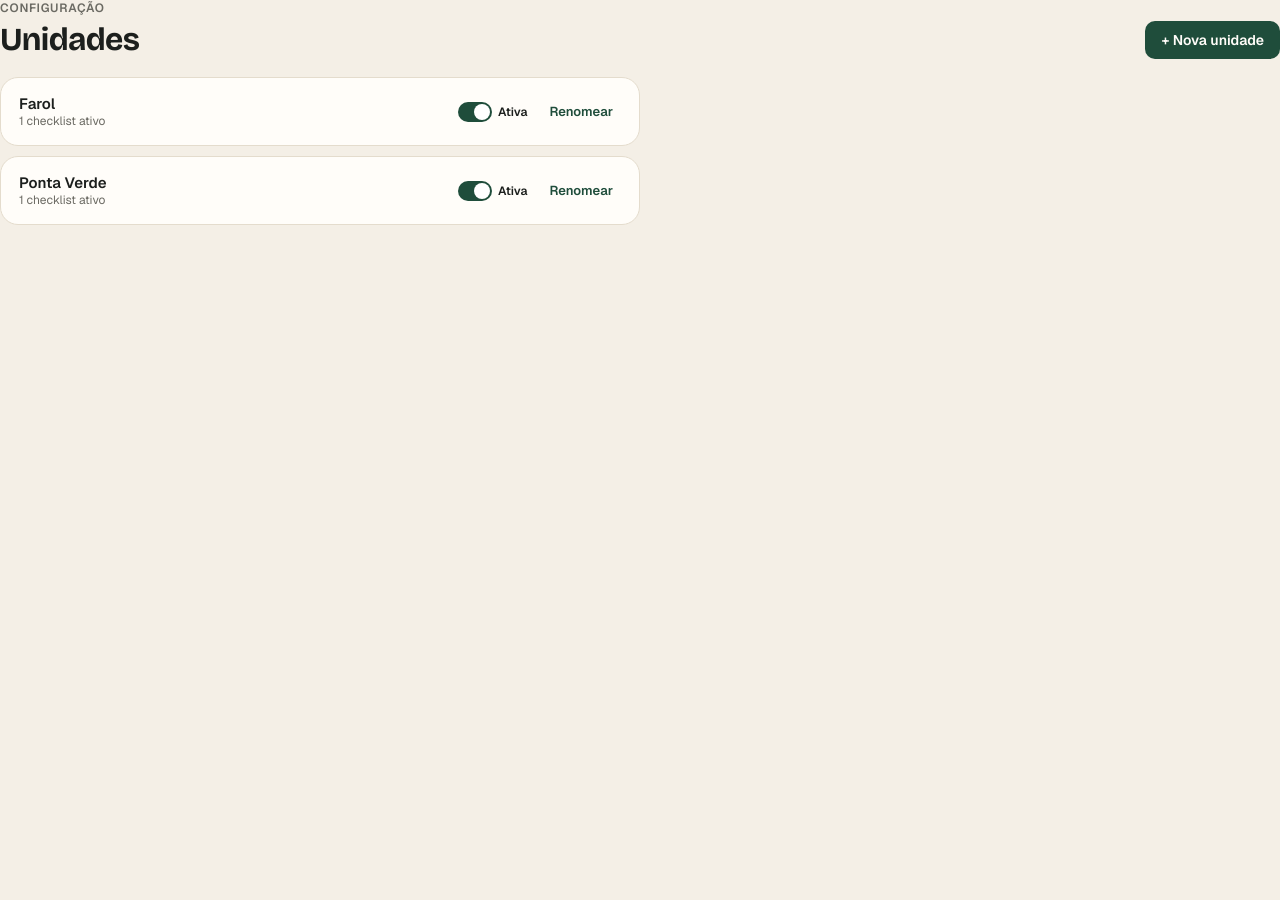
Test case: US20 — equipe, unidades e passo a passo › página Unidades: cria, recusa nome vazio e mostra o motivo de não desativar (sucesso e erro)
The image size is (1280, 900).
Click the button "+ Nova unidade": (1213, 40) [1146, 21, 1279, 59]
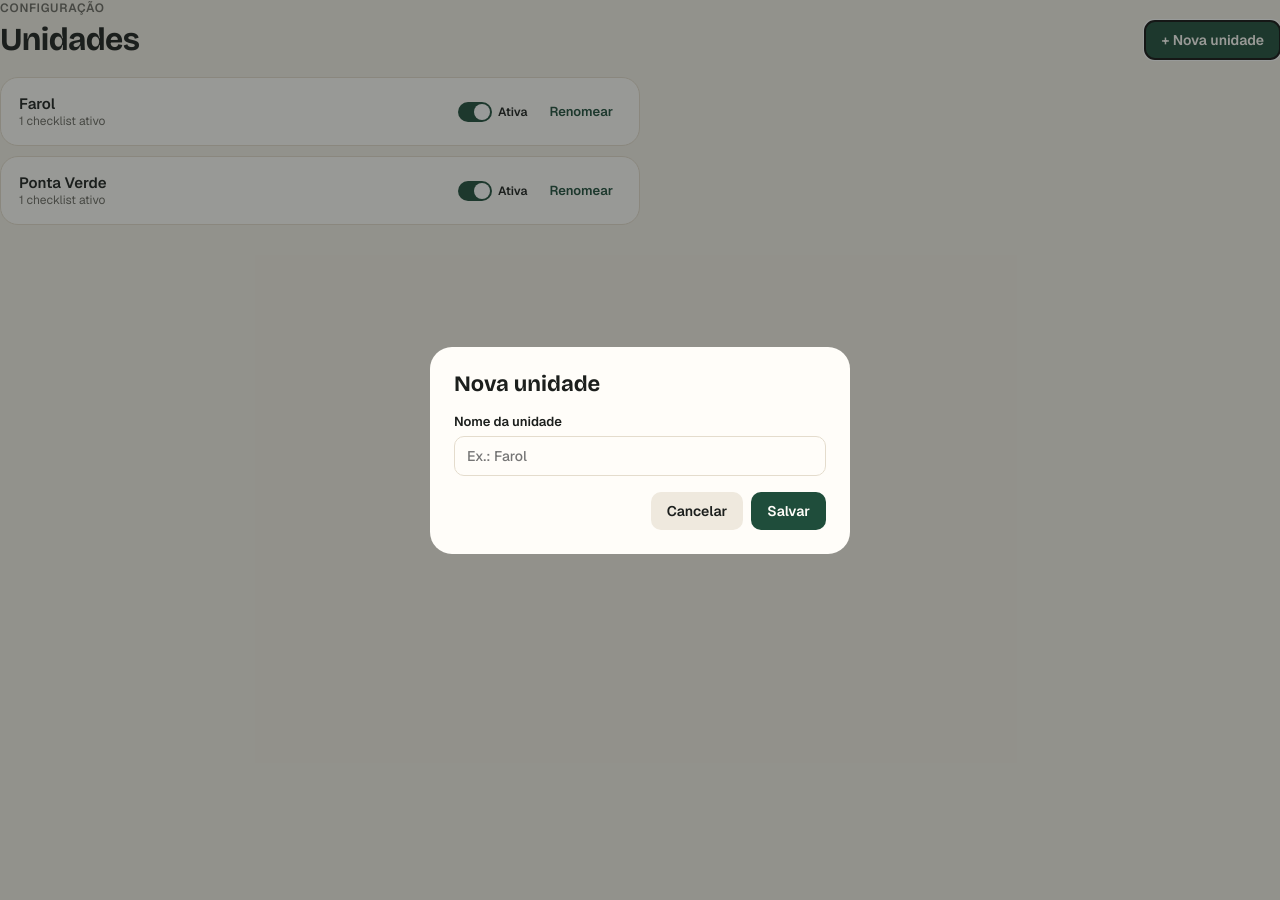
Click the button "Salvar": (789, 510) [751, 492, 826, 530]
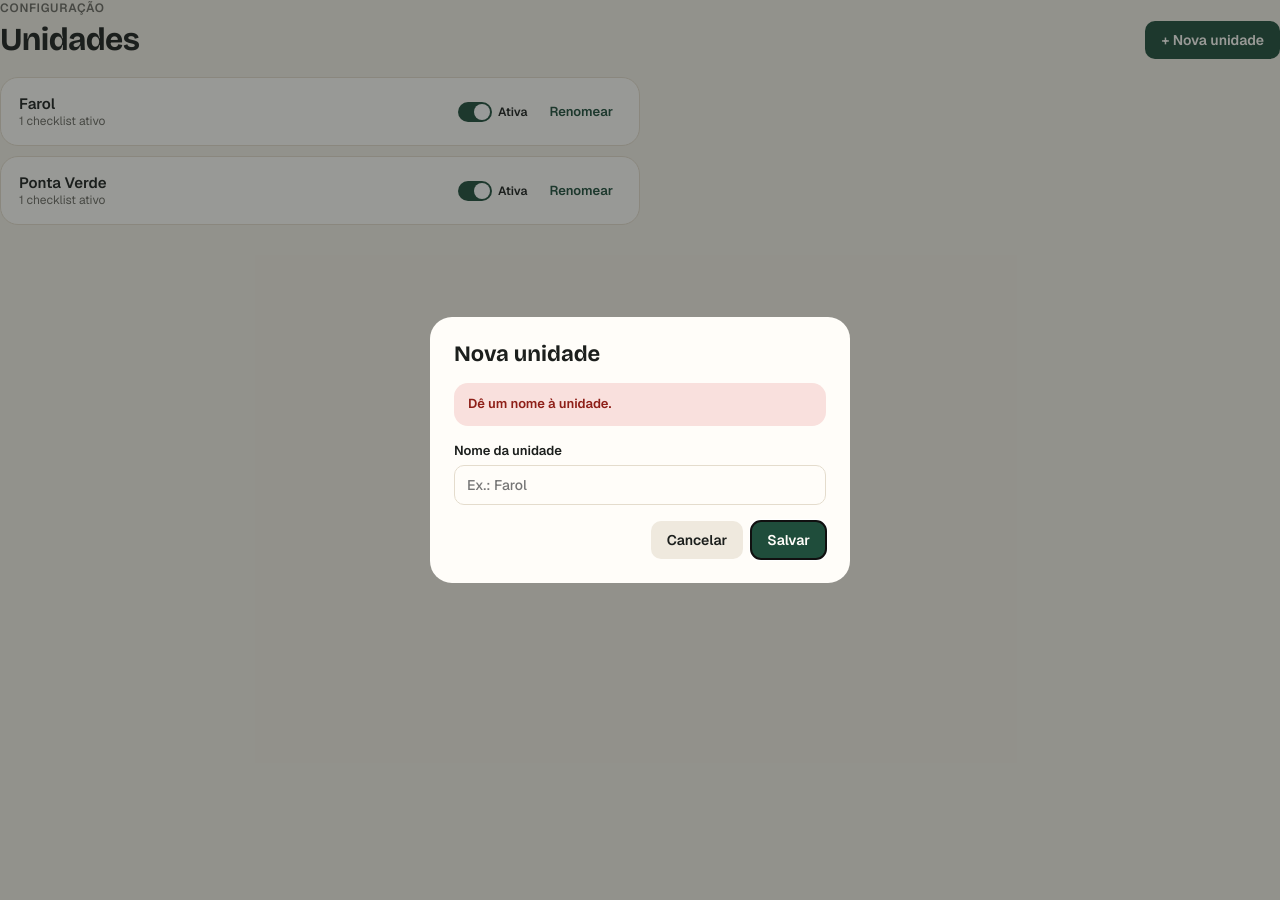
Check: the message reads "Dê um nome à unidade.", box [468, 395, 611, 412]
In the field labelled "Nome da unidade": (640, 485) [454, 465, 826, 505], type "Jatiúca"
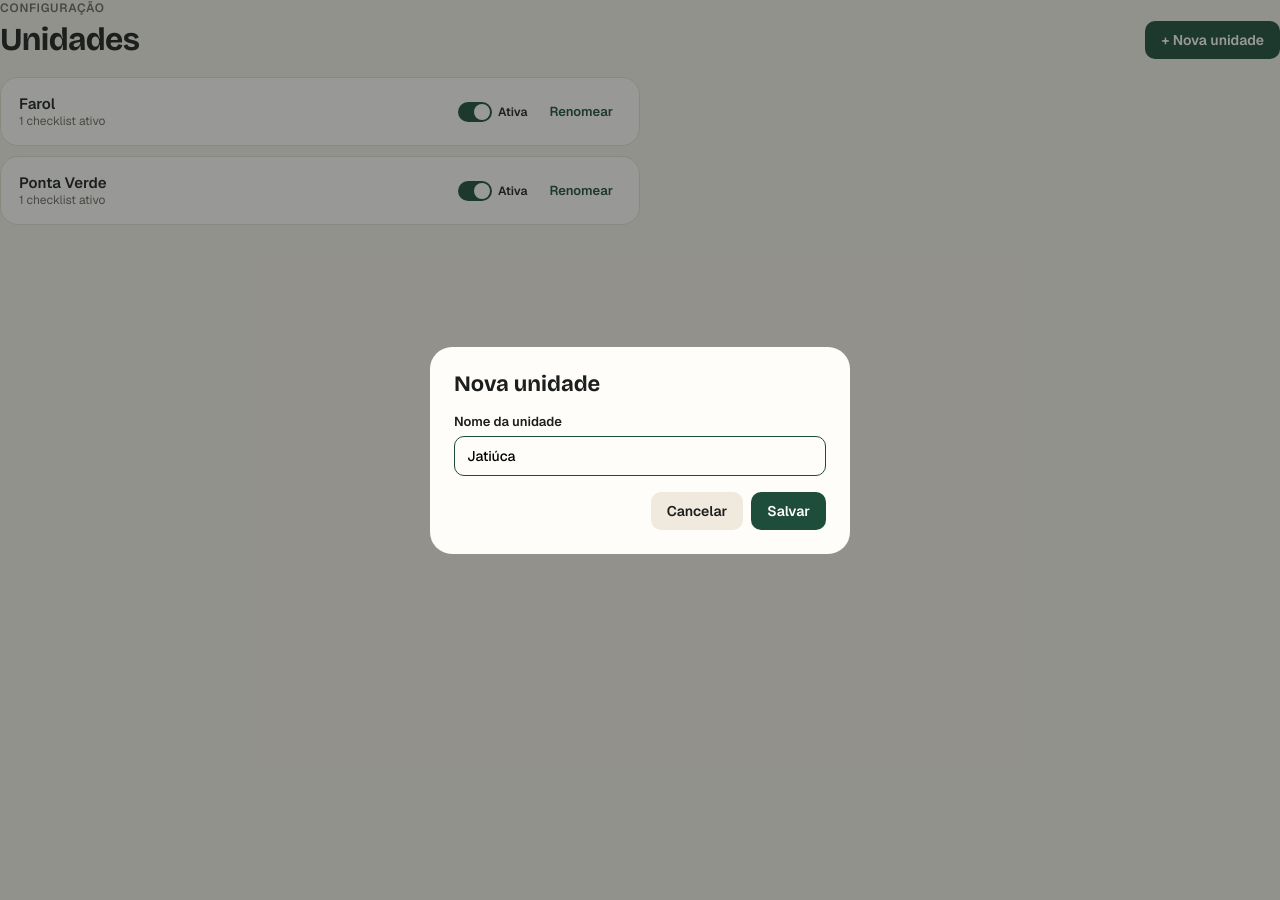
Click the button "Salvar": (789, 510) [751, 492, 826, 530]
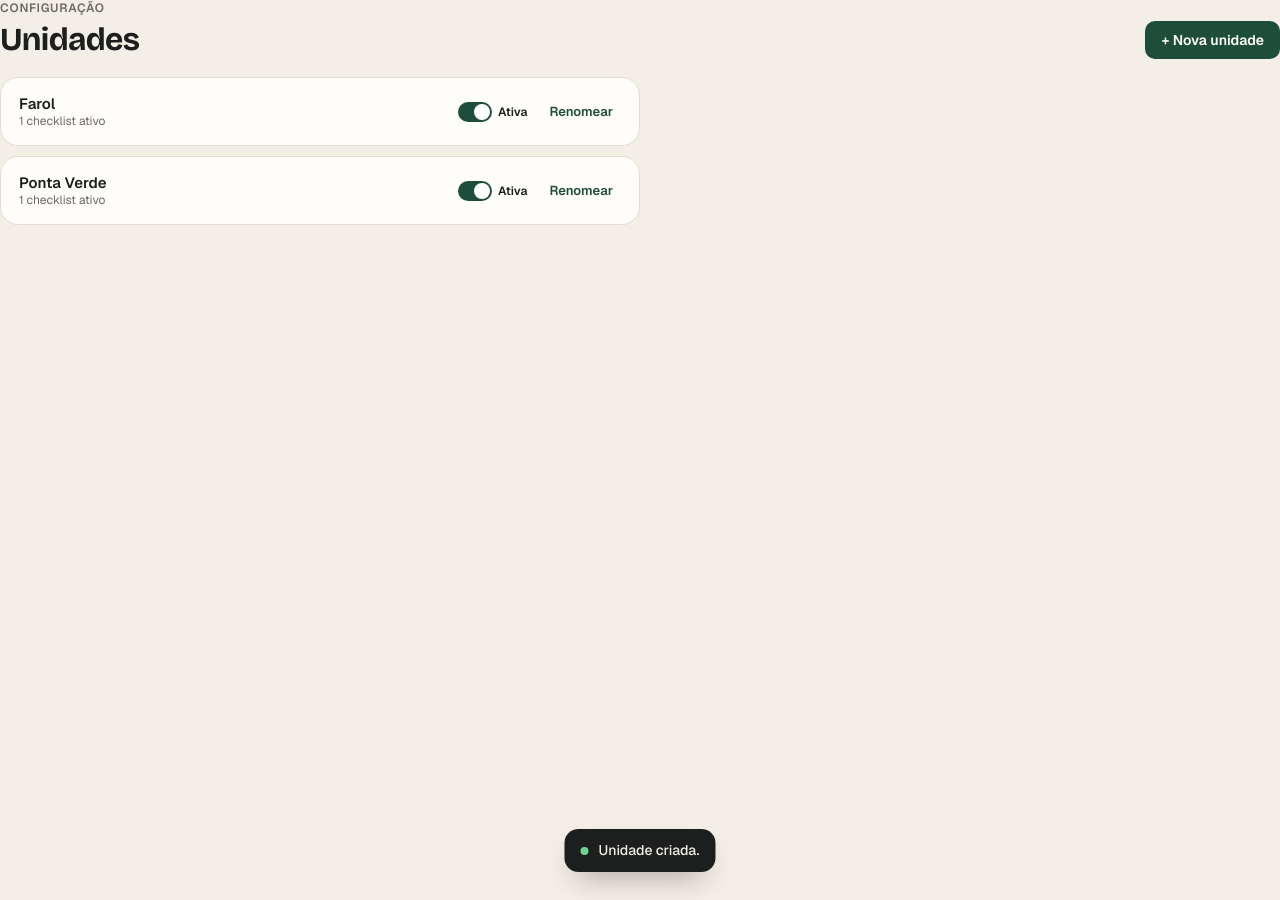
Click the switch named "Farol ativa": (493, 112) [458, 102, 527, 122]
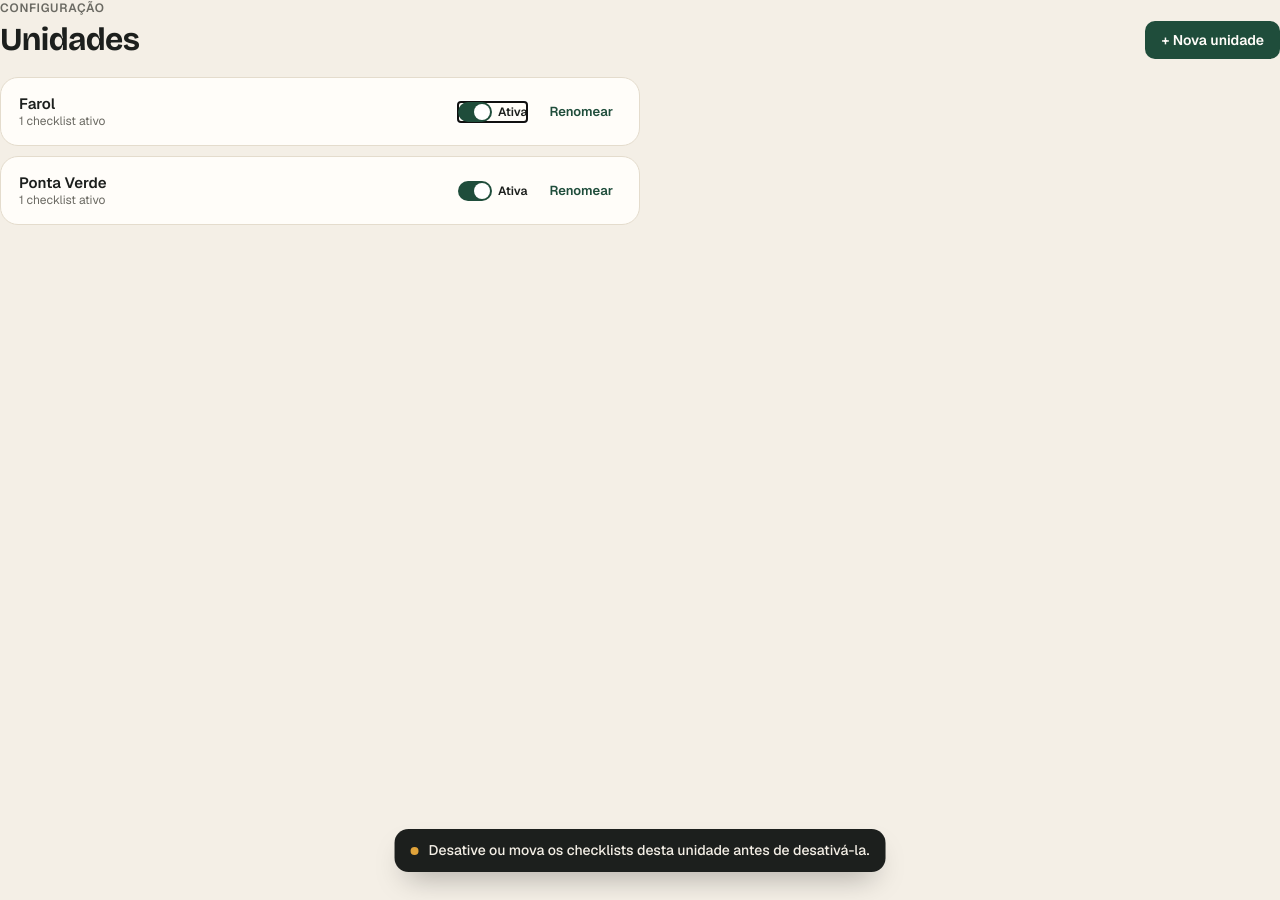
Check: the message shows "Desative ou mova", box [428, 841, 869, 859]
